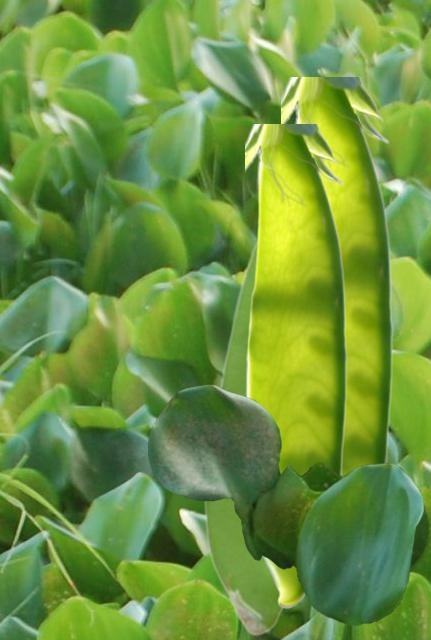pea: (245, 124, 347, 608), (281, 77, 393, 474), (203, 241, 285, 635)
